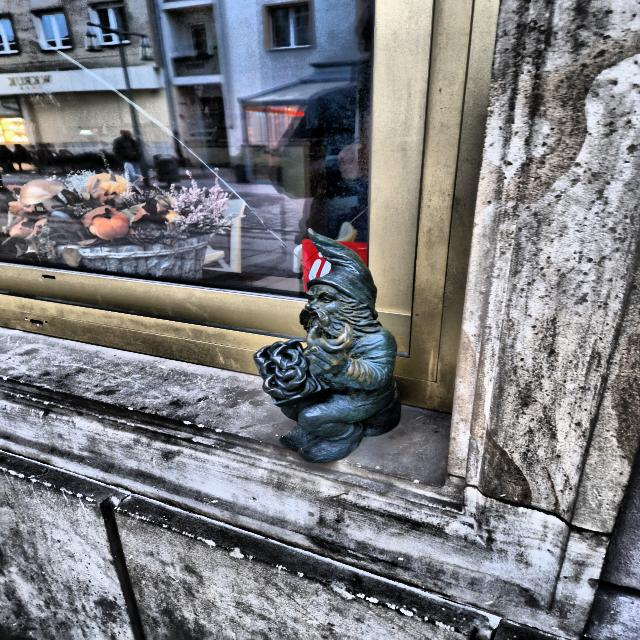Rogalik: (253, 223, 401, 465)
